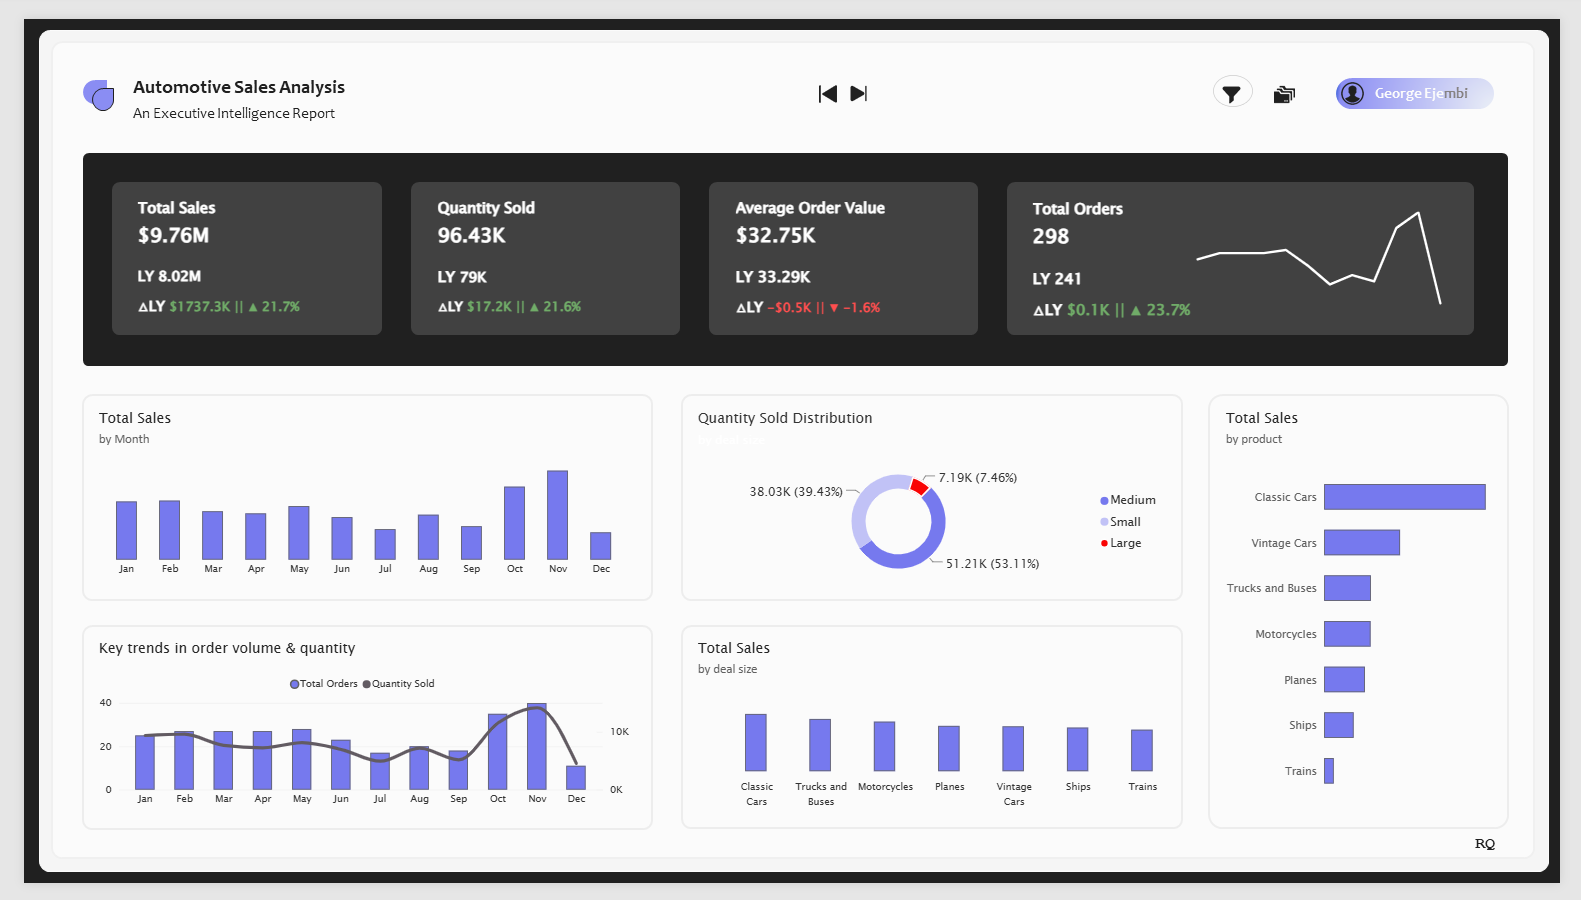

Layout of this report page (visuals, bound fields, positions):
{"tool":"powerbi","page":{"name":"DB 1","canvas":[1920,1080],"ordinal":0},"visuals":[{"type":"cardVisual","fields":{"Data":["Folders.Total Sales"]},"box":[126.2,218.8,305,157.5],"z":0},{"type":"cardVisual","fields":{"Data":["Folders.Quantity Sold"]},"box":[501.2,218.8,307.5,157.5],"z":1000},{"type":"cardVisual","fields":{"Data":["Folders.Average Order Value"]},"box":[873.8,218.8,301.2,157.5],"z":2000},{"type":"clusteredColumnChart","title":"Total Sales ","fields":{"Category":["Date Table.Month Name"],"Y":["Folders.Total Sales"]},"box":[77.5,472.5,695,246.2],"z":3000},{"type":"lineClusteredColumnComboChart","title":"Key trends in order volume & quantity","fields":{"Category":["Date Table.Month Name"],"Y":["Folders.Total Orders"],"Y2":["Folders.Quantity Sold"]},"box":[77.5,760,695,246.2],"z":4000},{"type":"clusteredBarChart","title":"Total Sales ","fields":{"Category":["Auto Sales data.PRODUCTLINE"],"Y":["Folders.Total Sales"]},"box":[1486.2,472.5,365,523.8],"z":5000},{"type":"donutChart","title":"Quantity Sold  Distribution ","fields":{"Category":["Auto Sales data.DEALSIZE"],"Y":["Folders.Quantity Sold"]},"box":[826.2,472.5,613.8,246.2],"z":6000},{"type":"clusteredColumnChart","title":"Total Sales ","fields":{"Category":["Auto Sales data.PRODUCTLINE"],"Y":["Folders.Average Selling Price"]},"box":[826.2,760,635,246.2],"z":7000},{"type":"cardVisual","fields":{"Data":["Folders.Total Orders"]},"box":[1245,218.8,322.5,157.5],"z":8000},{"type":"lineChart","title":"Total Sales ","fields":{"Category":["Date Table.Month Name"],"Y":["Folders.Total Orders"]},"box":[1440,218.8,357.5,157.5],"z":8375},{"type":"actionButton","title":"Filter Pane","box":[1485.7,70,50,40],"z":9500},{"type":"actionButton","box":[1025,70,41.2,51.2],"z":9502}]}

Visuals, with their boxes in screenshot pixels (x1, y1, x2, y2), scaled from the page's 1920x1080 canvas onto the 1581x900 screenshot:
cardVisual - Folders.Total Sales: bbox=(104, 182, 355, 314)
cardVisual - Folders.Quantity Sold: bbox=(413, 182, 666, 314)
cardVisual - Folders.Average Order Value: bbox=(720, 182, 968, 314)
"Total Sales " clusteredColumnChart: bbox=(64, 394, 636, 599)
"Key trends in order volume & quantity" lineClusteredColumnComboChart: bbox=(64, 633, 636, 839)
"Total Sales " clusteredBarChart: bbox=(1224, 394, 1524, 830)
"Quantity Sold  Distribution " donutChart: bbox=(680, 394, 1186, 599)
"Total Sales " clusteredColumnChart: bbox=(680, 633, 1203, 839)
cardVisual - Folders.Total Orders: bbox=(1025, 182, 1291, 314)
"Total Sales " lineChart: bbox=(1186, 182, 1480, 314)
"Filter Pane" actionButton: bbox=(1223, 58, 1265, 92)
actionButton: bbox=(844, 58, 878, 101)
